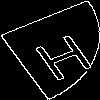H: (24, 25, 98, 83)
